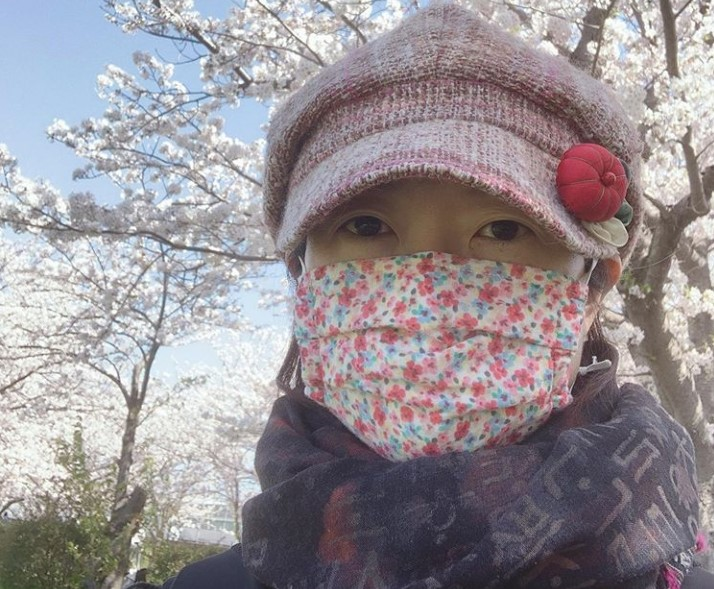face_with_mask: (262, 7, 647, 468)
